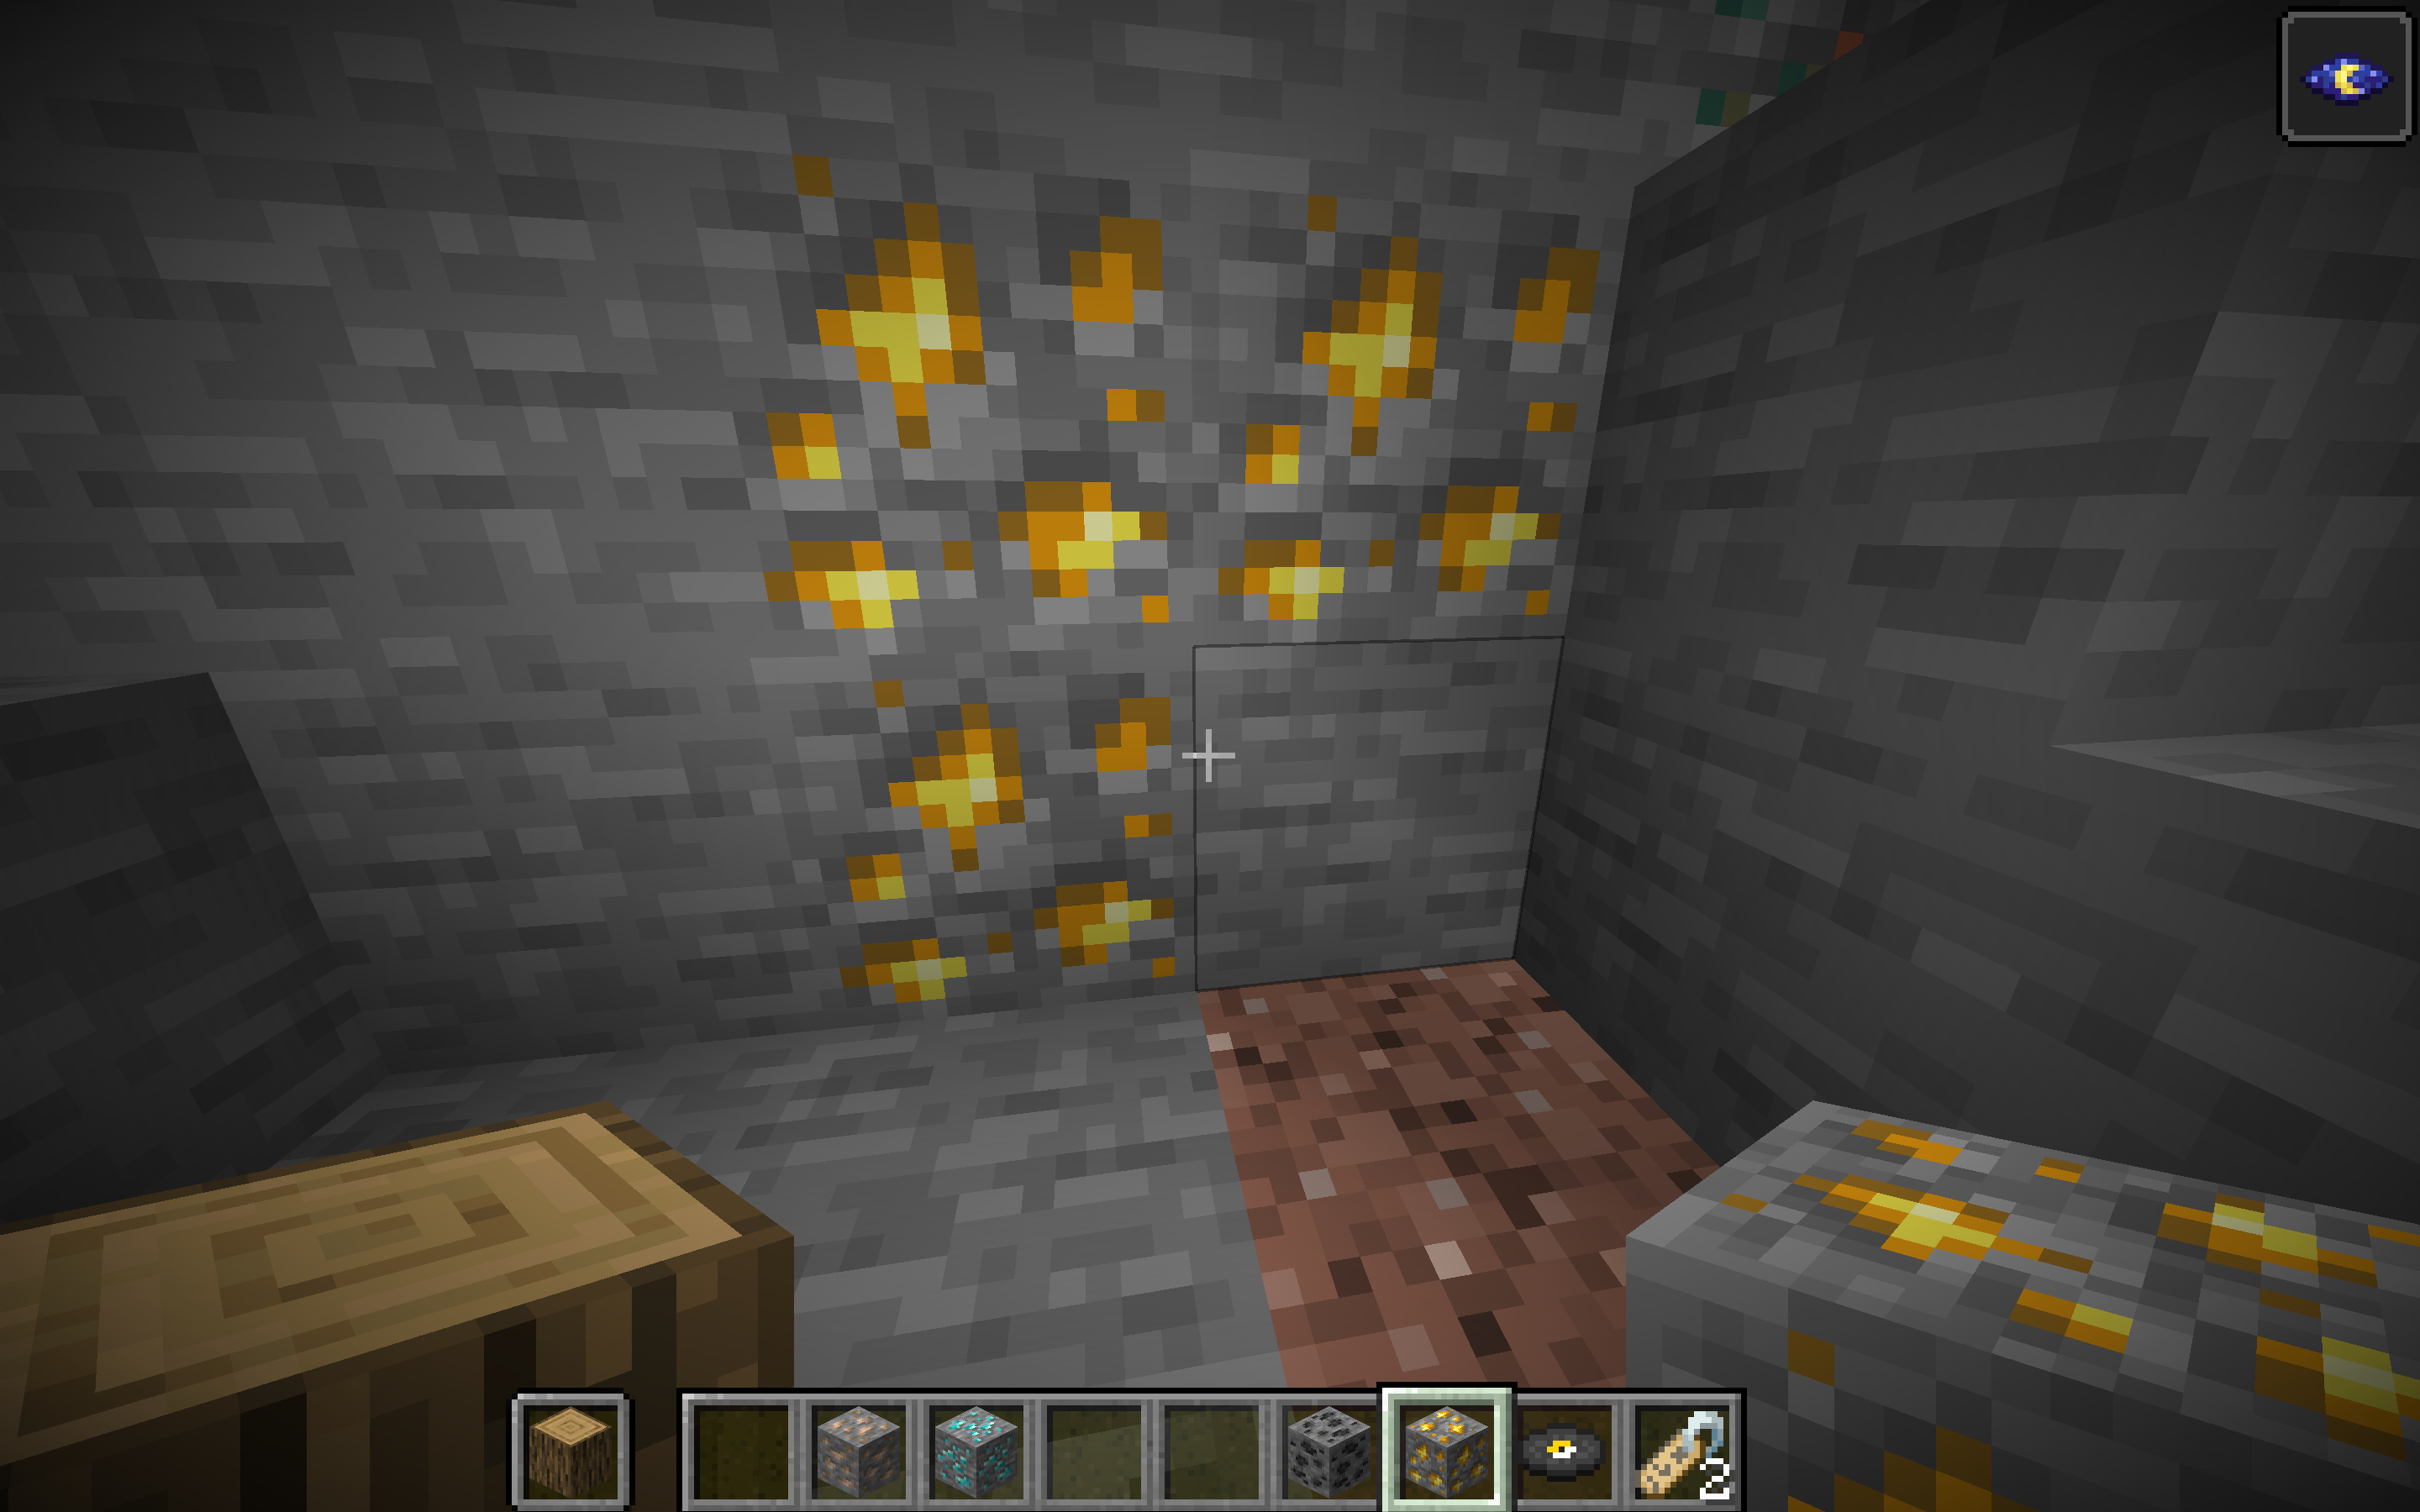gold: (427, 75, 1817, 1073)
